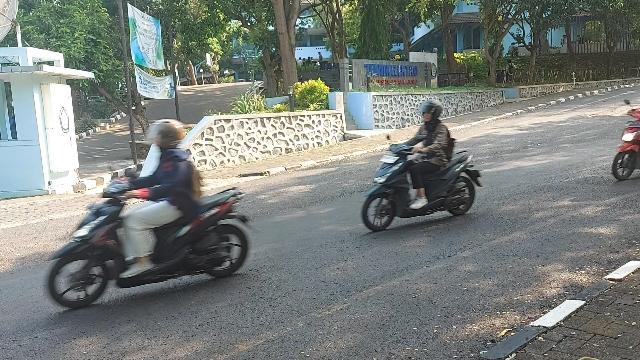helm: (148, 120, 186, 149), (421, 100, 443, 122)
motor: (49, 167, 262, 310), (363, 136, 484, 233)
